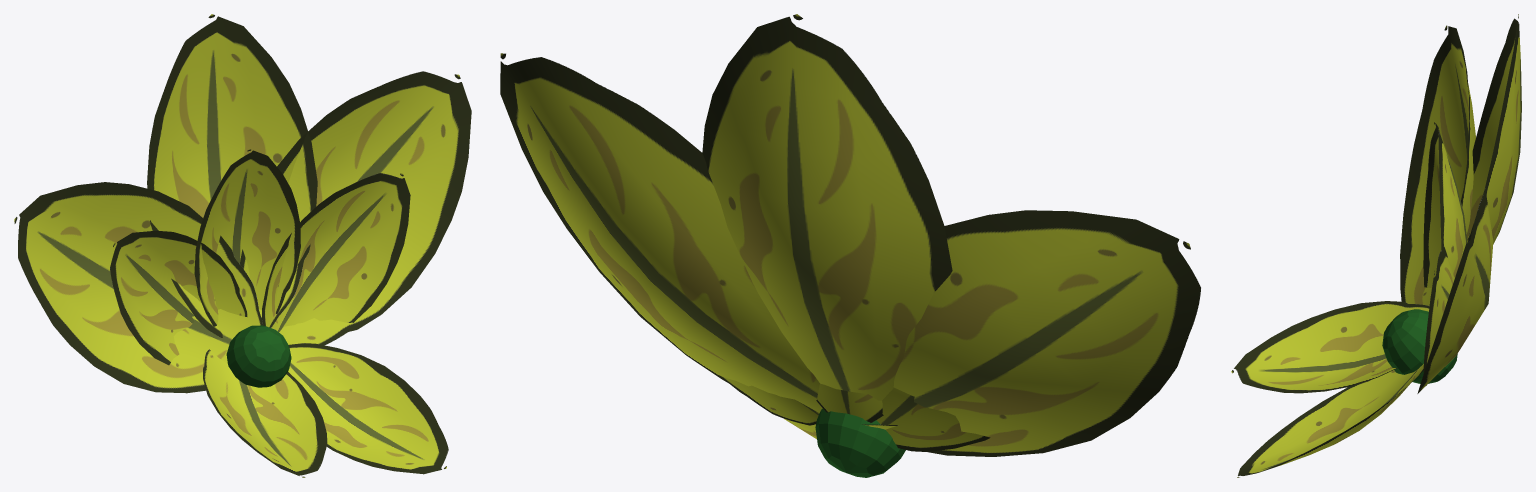
File: Kaki Kanan Alyssia.fbx
3 views of the same model, side by side, from view 1: azimuth 30°, elevation 25°; view 2: azimuth 150°, elevation 25°; view 3: azimuth 270°, elevation 25° (orthographic). The views are drawn at different scales.
Visible parts, largest first — view 1: Kaki Alyssia.001; view 2: Kaki Alyssia.001; view 3: Kaki Alyssia.001.
Boxes of the visible parts, <box> form: Kaki Alyssia.001: <box>14,14,471,477</box>; Kaki Alyssia.001: <box>500,14,1200,477</box>; Kaki Alyssia.001: <box>1231,14,1521,477</box>.
Size of the model in its own units: 16.46 by 13.02 by 8.34.
